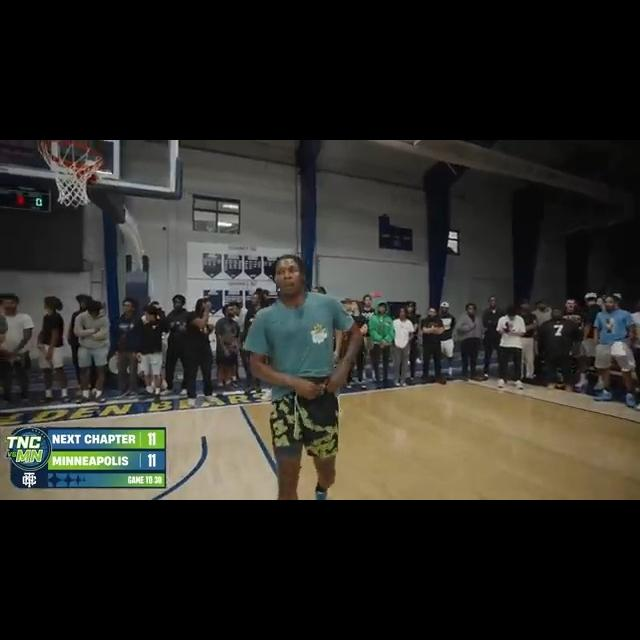hoop: (35, 140, 100, 208)
